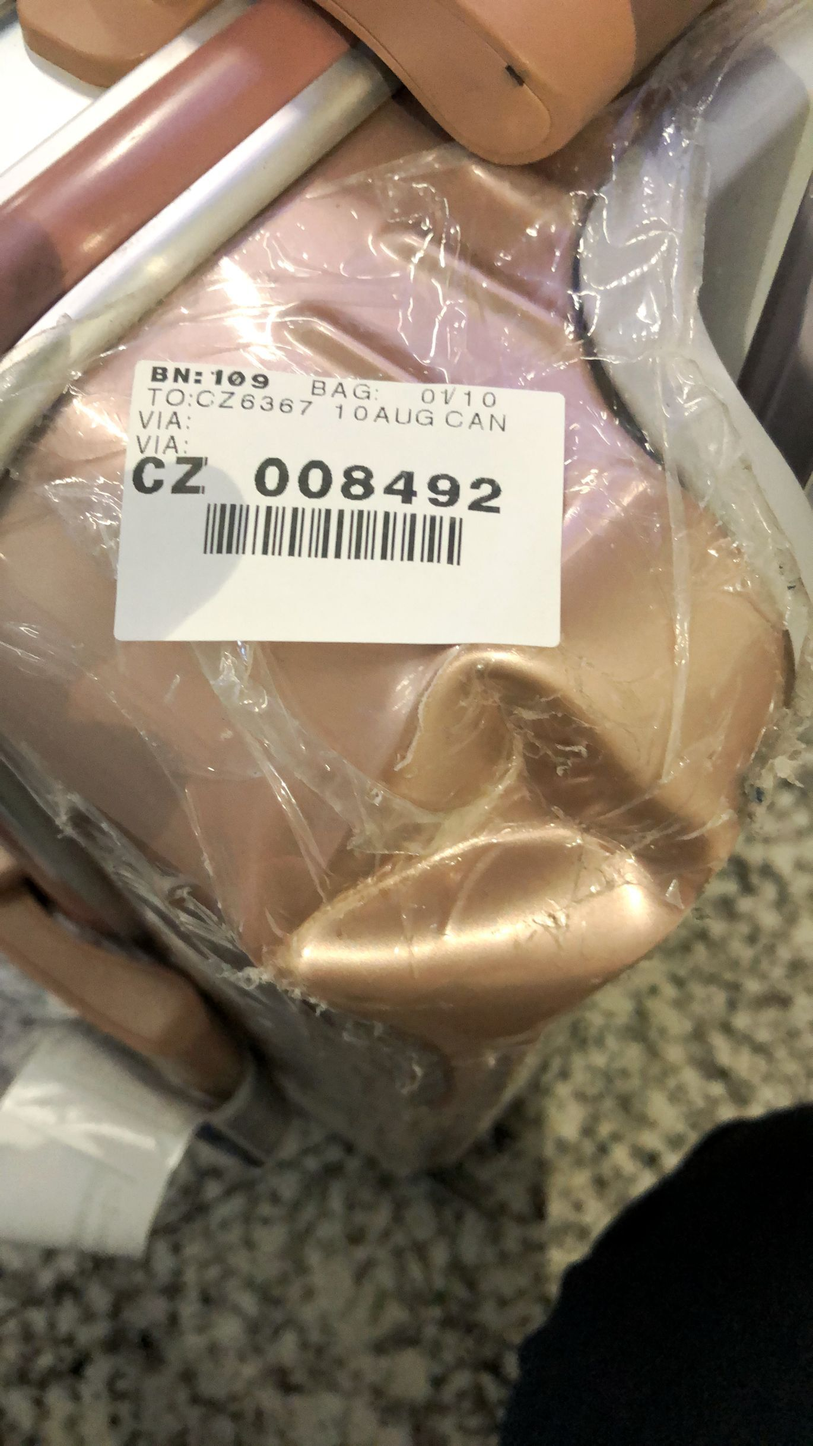hollow: (275, 650, 723, 1013)
